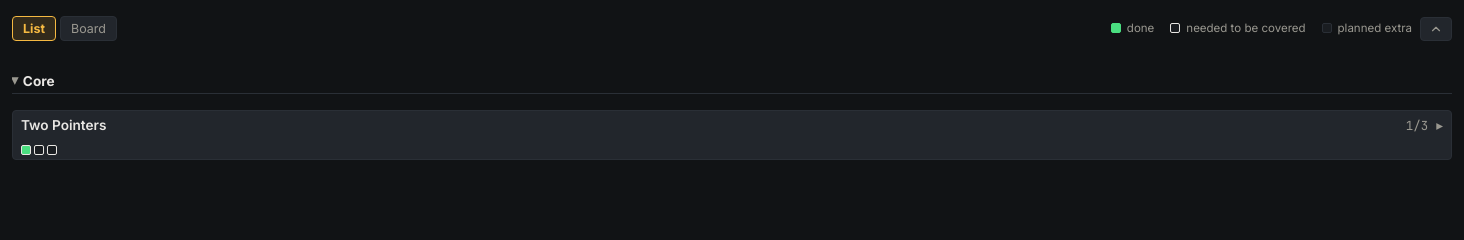
TechniqueListComponent › is collapsed by default: clicking the row toggles aria-expanded and reveals the detail panel
Click the button with class "tech-row__toggle" at (64, 125), box [13,111,1451,159]
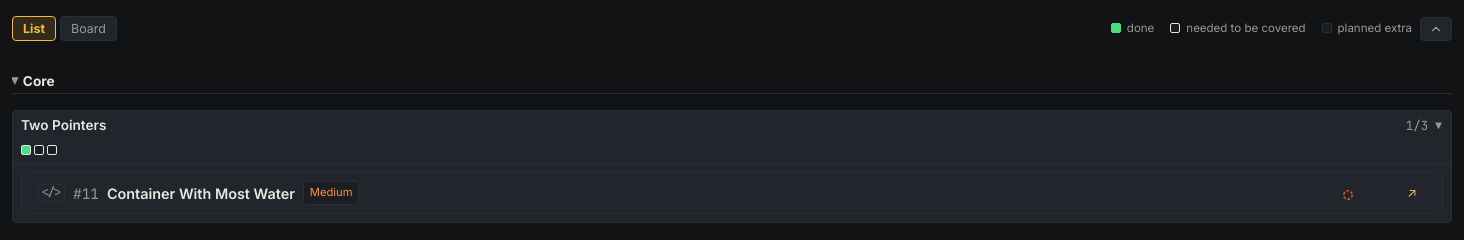
Check: the button with class "tech-row__toggle" is expanded, box [13,111,1451,159]
Check: the element with class "tech-row__detail" is shown, box [13,163,1451,222]
